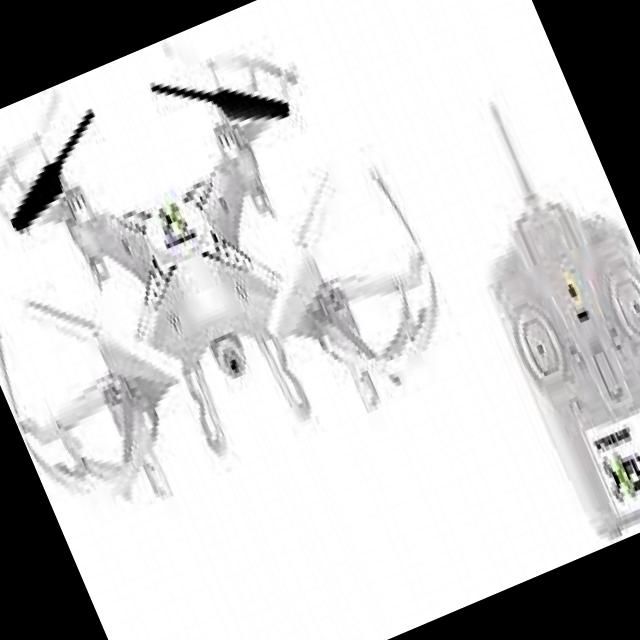drone: (0, 0, 512, 619)
